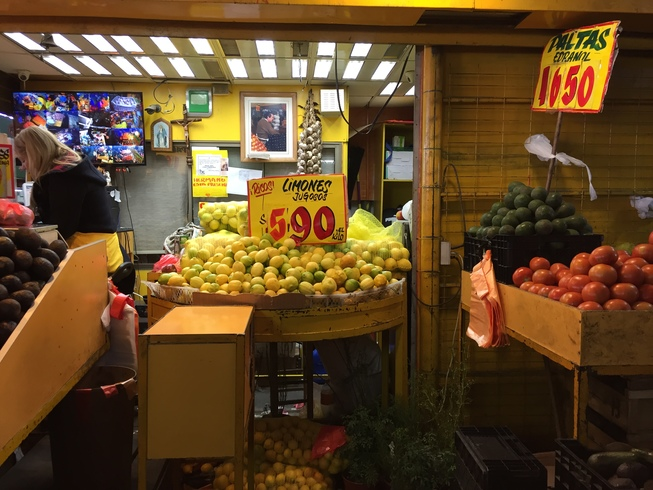precio: (531, 18, 625, 112), (246, 175, 357, 249)
